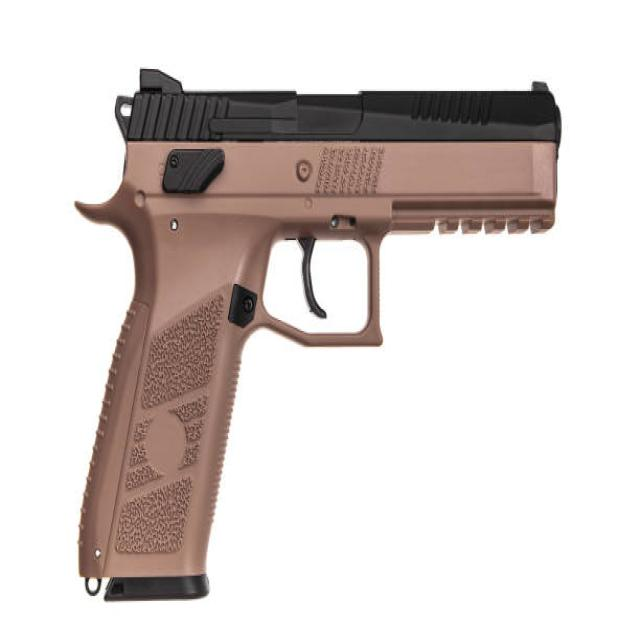pistol: (64, 58, 572, 612)
